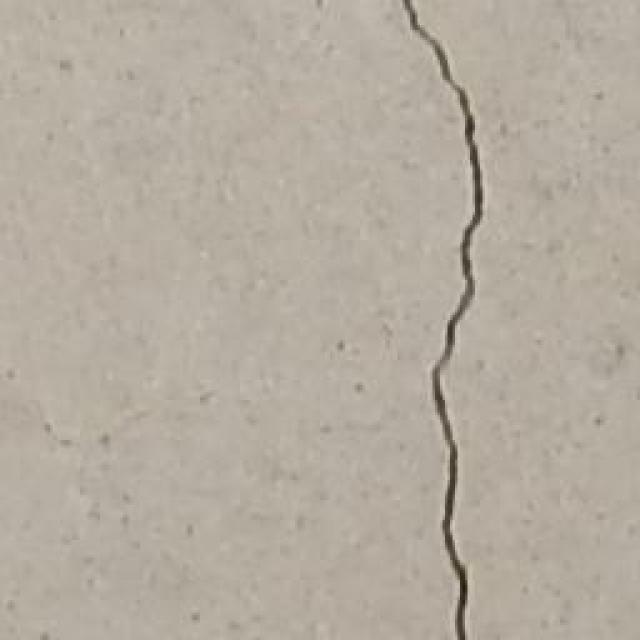concrete-crack: (402, 0, 488, 640)
